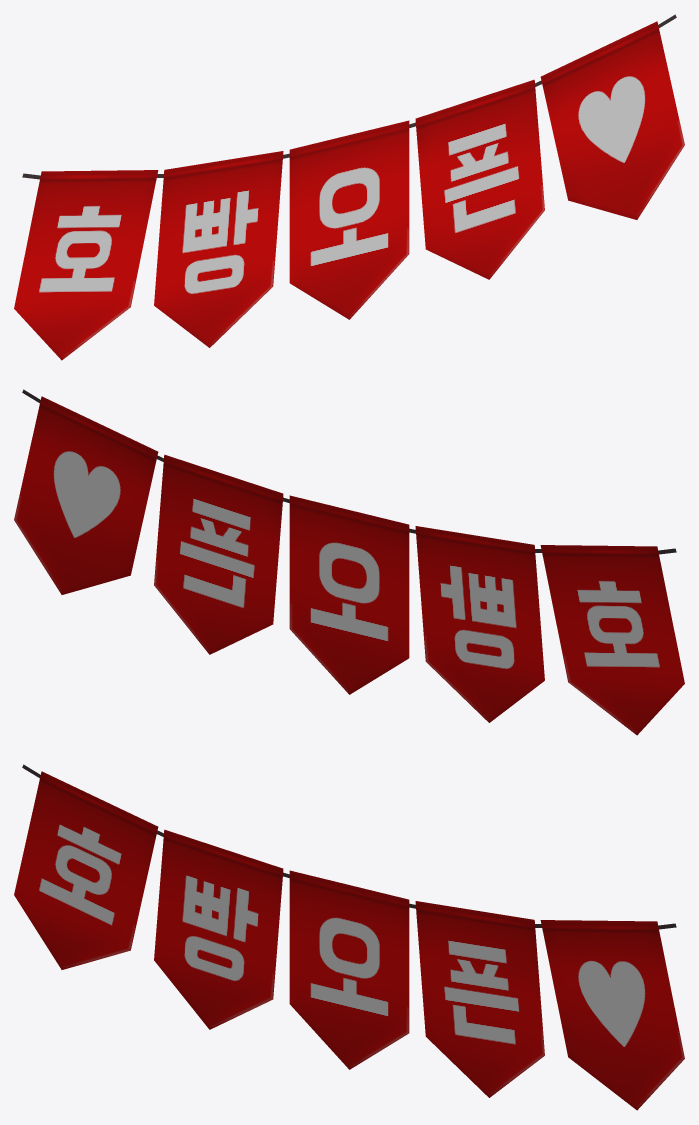
The model's file is garlander.FBX.
3 renders of one model, top to bottom at view 1: azimuth 30°, elevation 25°; view 2: azimuth 150°, elevation 25°; view 3: azimuth 330°, elevation 25°, orthographic.
Visible parts, largest first — view 1: garlander; view 2: garlander; view 3: garlander.
Part boxes in pixels (box(x1,y1,x2,y2)): garlander: box(14, 14, 684, 360); garlander: box(14, 389, 684, 735); garlander: box(14, 764, 684, 1110).
Size of the model in its own units: 152 by 48.89 by 8.73e-06.
